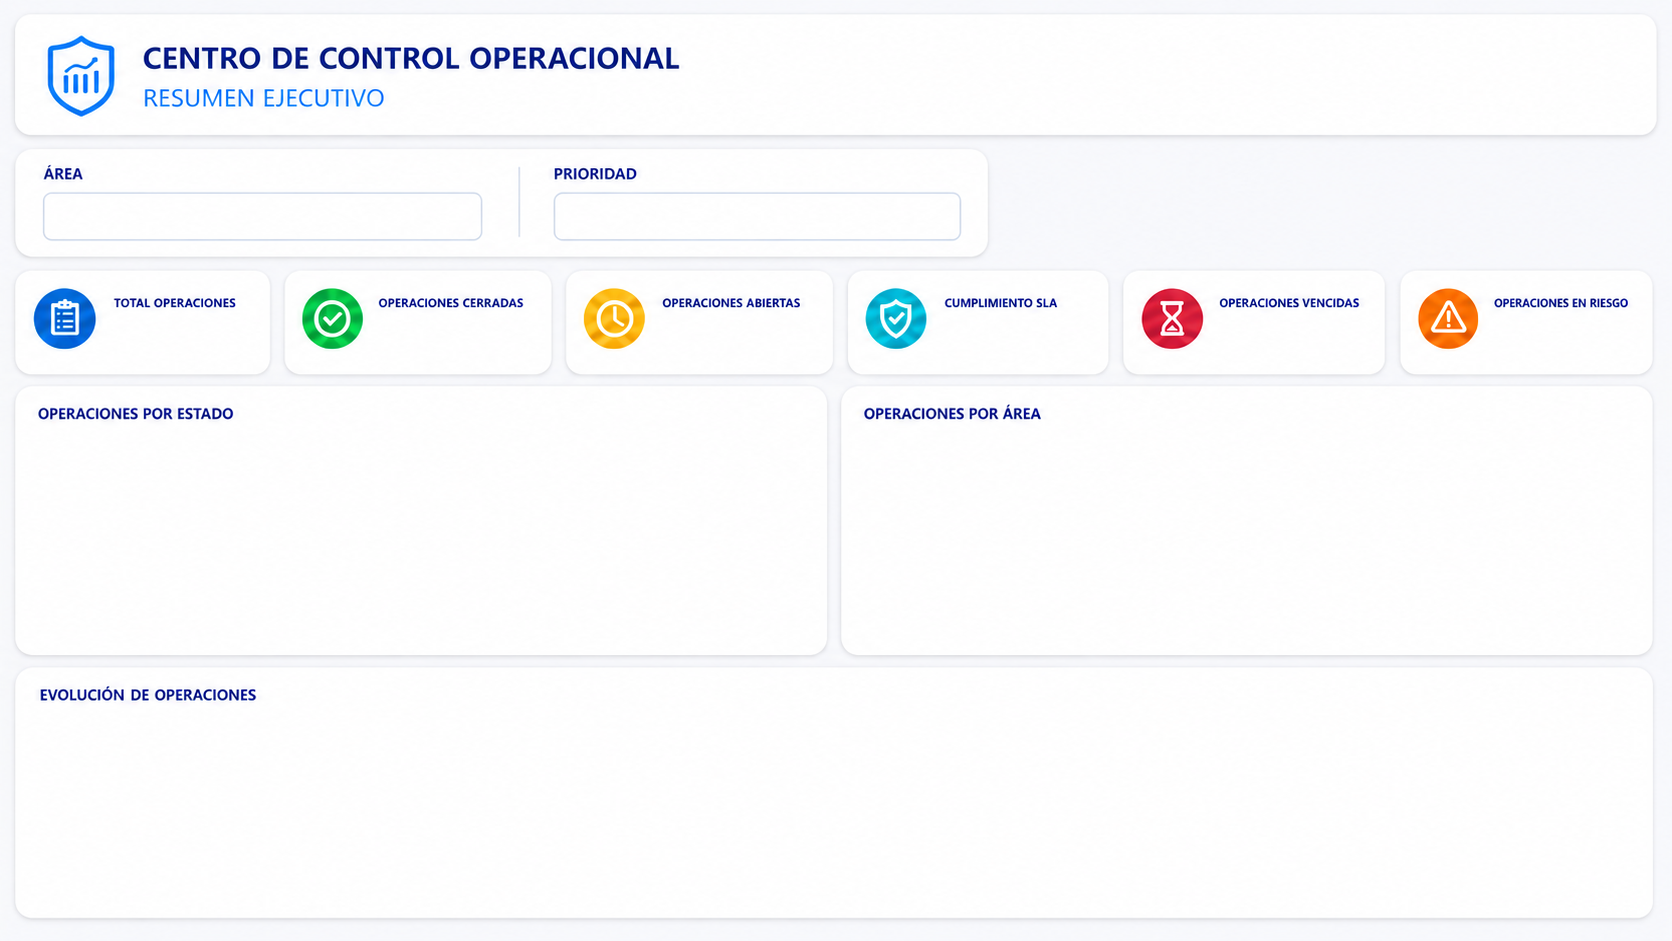

This screenshot's page, from the dashboard's own definition file:
{"tool":"powerbi","page":{"name":"RESUMEN EJECUTIVO","canvas":[1672,941],"ordinal":0},"visuals":[{"type":"slicer","fields":{"Values":["Dim_Area.Area"]},"box":[42.4,191.2,440.4,47.6],"z":0},{"type":"slicer","fields":{"Values":["Dim_Prioridad.Prioridad"]},"box":[556.2,191.5,406.9,47.7],"z":1000},{"type":"cardVisual","fields":{"Data":["Fact_Operaciones.Operaciones Cerradas"]},"box":[361.7,291.7,177.5,66.2],"z":2000},{"type":"cardVisual","fields":{"Data":["Fact_Operaciones.Operaciones Abiertas"]},"box":[646.7,291.7,177.5,66.2],"z":3000},{"type":"cardVisual","fields":{"Data":["Fact_Operaciones.Porcentaje Cumplimiento SLA"]},"box":[926.7,291.7,177.5,66.2],"z":4000},{"type":"cardVisual","fields":{"Data":["Fact_Operaciones.Operaciones Vencidas"]},"box":[1201.7,292.5,177.5,66.2],"z":5000},{"type":"cardVisual","fields":{"Data":["Fact_Operaciones.Operaciones En Riesgo"]},"box":[1474.2,292.5,177.5,66.2],"z":6000},{"type":"cardVisual","fields":{"Data":["Fact_Operaciones.Total Operaciones"]},"box":[95,291.7,177.5,66.2],"z":7000},{"type":"clusteredBarChart","fields":{"Category":["Dim_Estado.Estado"],"Y":["Fact_Operaciones.Total Operaciones"]},"box":[28.8,421.2,780,226.2],"z":8000},{"type":"clusteredBarChart","fields":{"Category":["Dim_Area.Area"],"Y":["Fact_Operaciones.Total Operaciones"]},"box":[860,421.2,780,226.2],"z":9000},{"type":"stackedAreaChart","fields":{"Category":["Dim_Fecha.Mes"],"Y":["Fact_Operaciones.Total Operaciones"]},"box":[28.6,705.7,1611.4,204.3],"z":10000},{"type":"pageNavigator","box":[824,68,650,48],"z":11000},{"type":"actionButton","box":[1487,68,40,48],"z":12000},{"type":"cardVisual","title":"ACTUALIZADO","fields":{"Data":["Consulta.Texto Actualizacion"]},"box":[1536,68,110,48],"z":13000},{"type":"shape","box":[1535,72,12,12],"z":14000}]}

Visuals, with their boxes in screenshot pixels (x1, y1, x2, y2), scaled from the page's 1672x941 canvas onto the 1672x941 screenshot:
slicer - Dim_Area.Area: x1=42 y1=191 x2=483 y2=239
slicer - Dim_Prioridad.Prioridad: x1=556 y1=192 x2=963 y2=239
cardVisual - Fact_Operaciones.Operaciones Cerradas: x1=362 y1=292 x2=539 y2=358
cardVisual - Fact_Operaciones.Operaciones Abiertas: x1=647 y1=292 x2=824 y2=358
cardVisual - Fact_Operaciones.Porcentaje Cumplimiento SLA: x1=927 y1=292 x2=1104 y2=358
cardVisual - Fact_Operaciones.Operaciones Vencidas: x1=1202 y1=292 x2=1379 y2=359
cardVisual - Fact_Operaciones.Operaciones En Riesgo: x1=1474 y1=292 x2=1652 y2=359
cardVisual - Fact_Operaciones.Total Operaciones: x1=95 y1=292 x2=272 y2=358
clusteredBarChart - Dim_Estado.Estado x Fact_Operaciones.Total Operaciones: x1=29 y1=421 x2=809 y2=647
clusteredBarChart - Dim_Area.Area x Fact_Operaciones.Total Operaciones: x1=860 y1=421 x2=1640 y2=647
stackedAreaChart - Dim_Fecha.Mes x Fact_Operaciones.Total Operaciones: x1=29 y1=706 x2=1640 y2=910
pageNavigator: x1=824 y1=68 x2=1474 y2=116
actionButton: x1=1487 y1=68 x2=1527 y2=116
"ACTUALIZADO" cardVisual: x1=1536 y1=68 x2=1646 y2=116
shape: x1=1535 y1=72 x2=1547 y2=84
